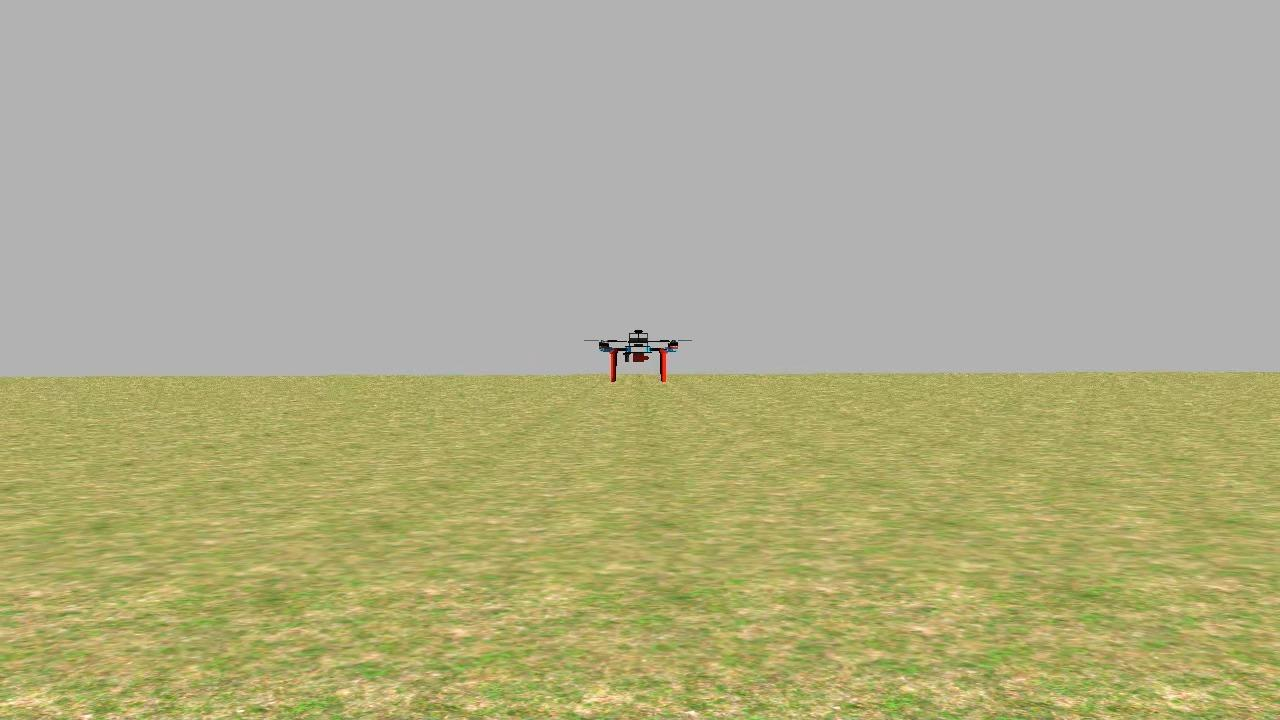UAV: (582, 319, 699, 390)
